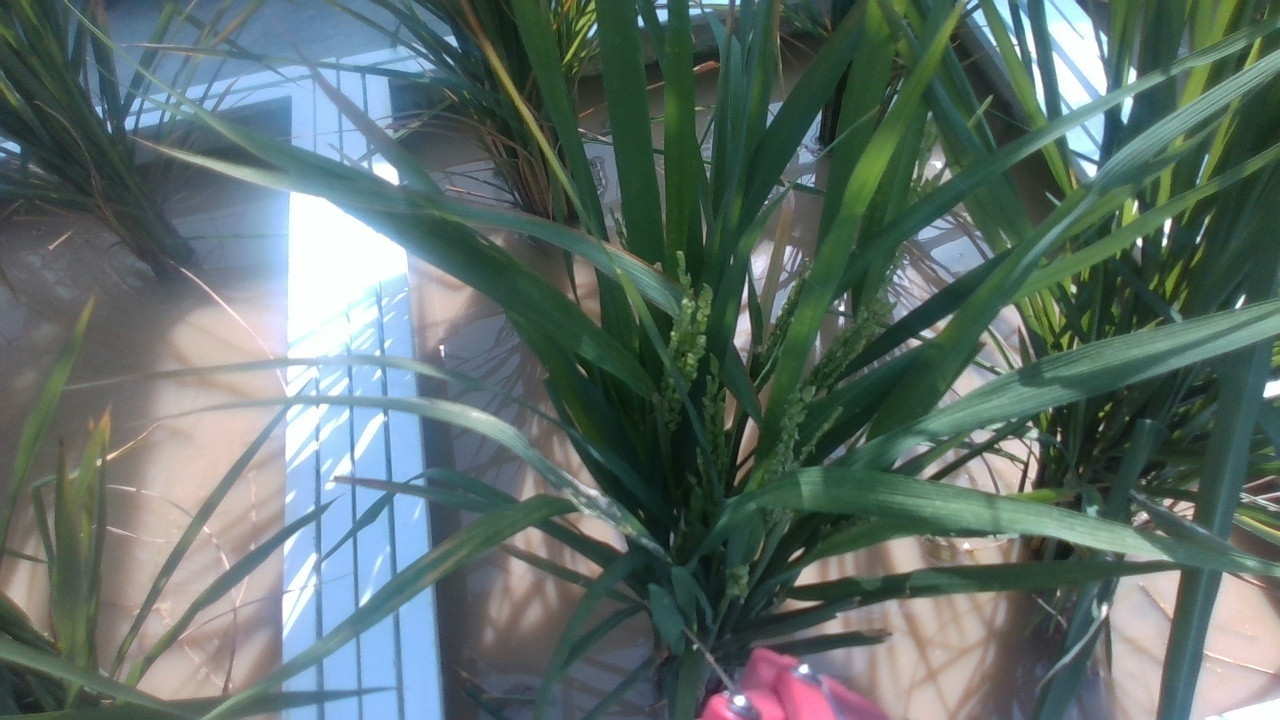panicle: (659, 266, 711, 391), (697, 352, 738, 489), (820, 303, 891, 377), (760, 402, 830, 477)
